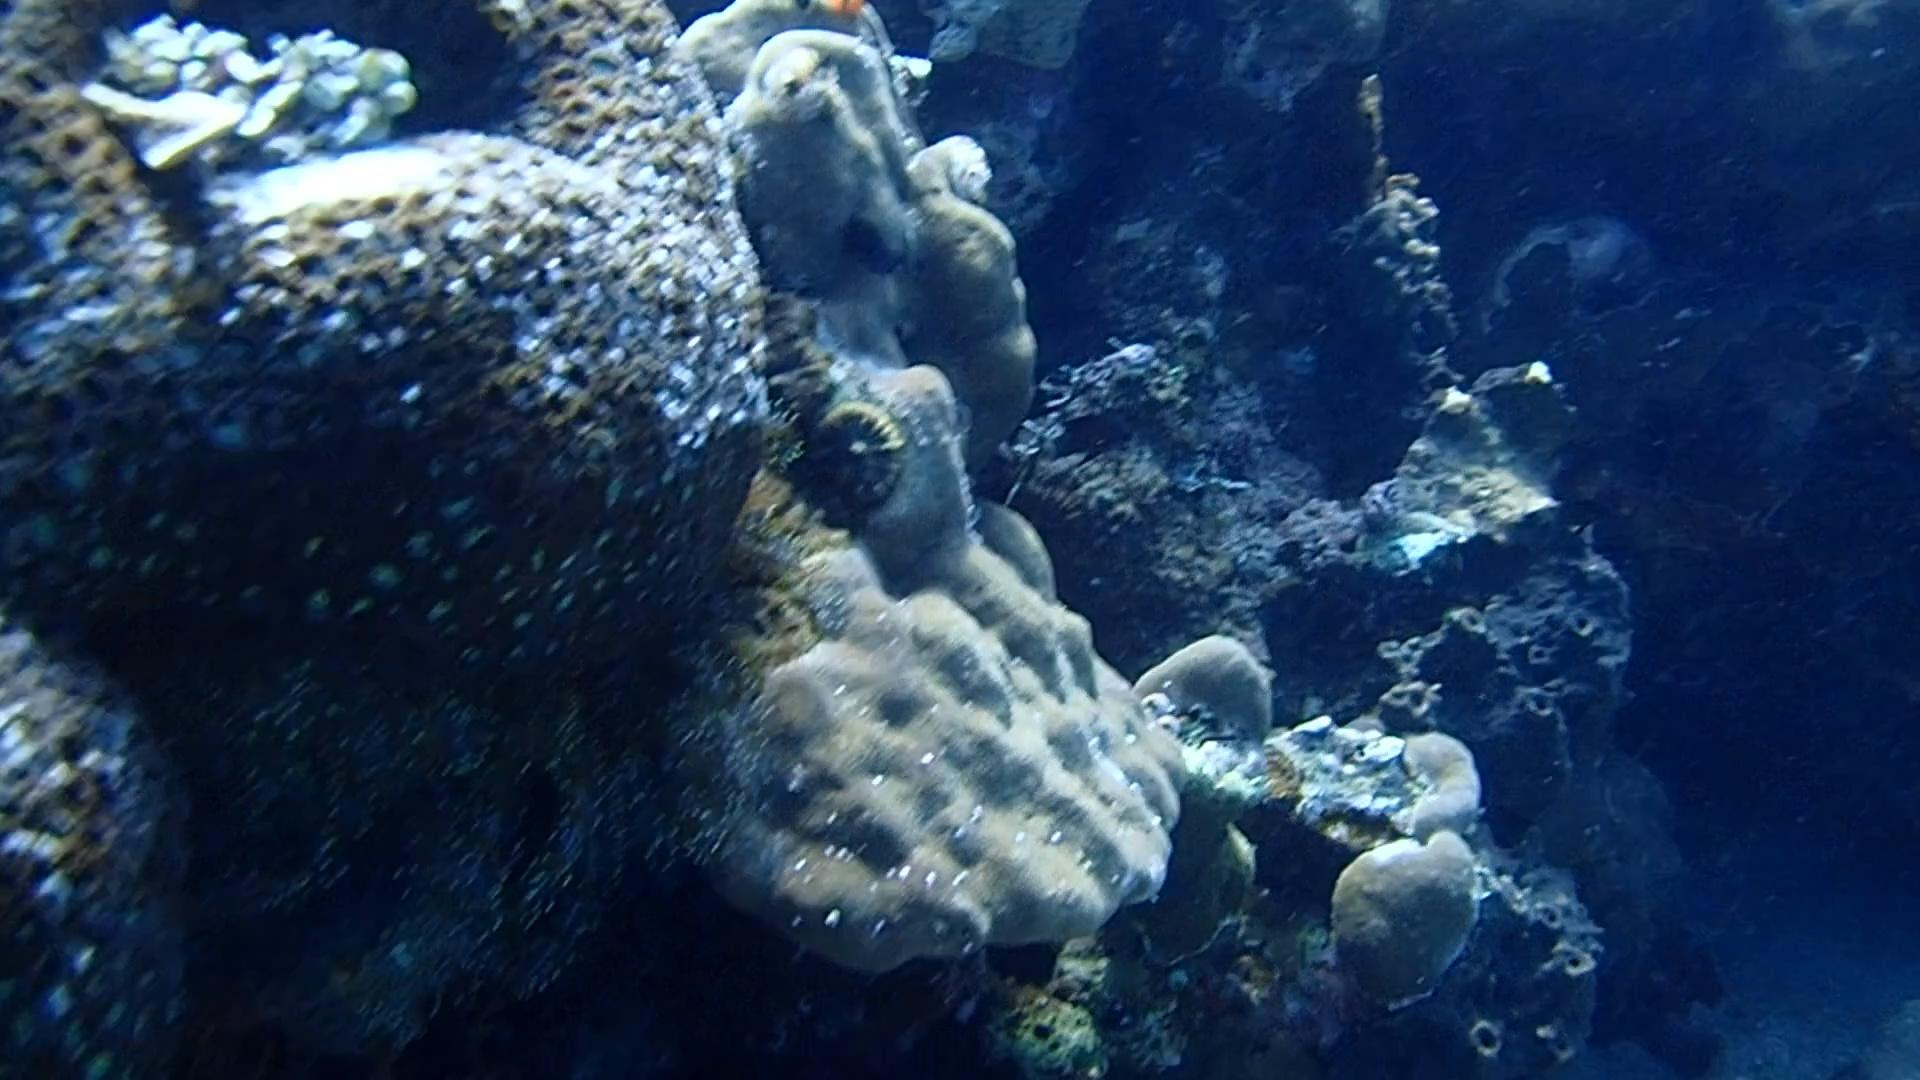Dark Fish: (1042, 397, 1146, 467), (832, 203, 905, 290)
